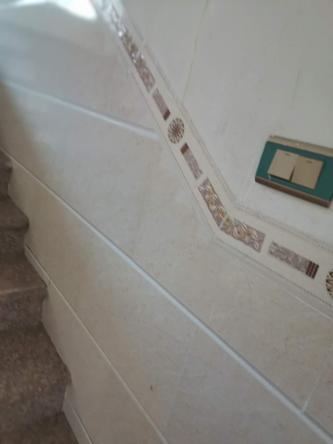switch: (288, 153, 325, 189), (266, 144, 297, 182)
